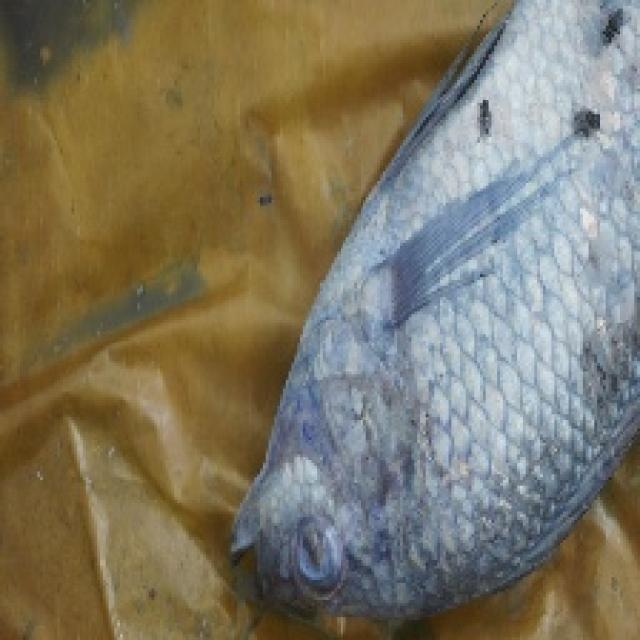Non-Fresh: (239, 41, 573, 640)
